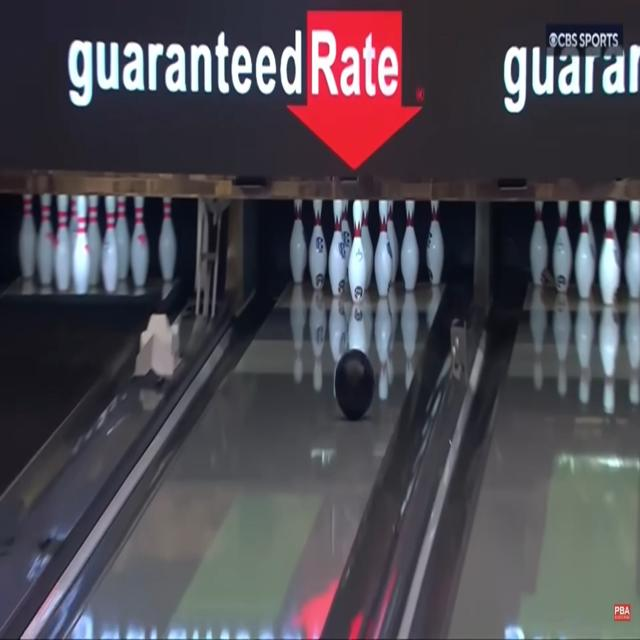alley: (71, 284, 440, 638)
balls: (334, 348, 375, 420)
bottle: (282, 194, 446, 302)
